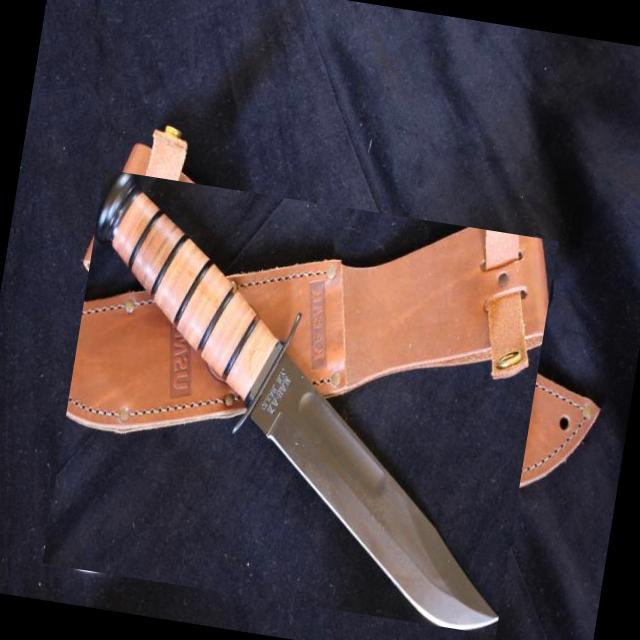Knife: (97, 174, 499, 629)
